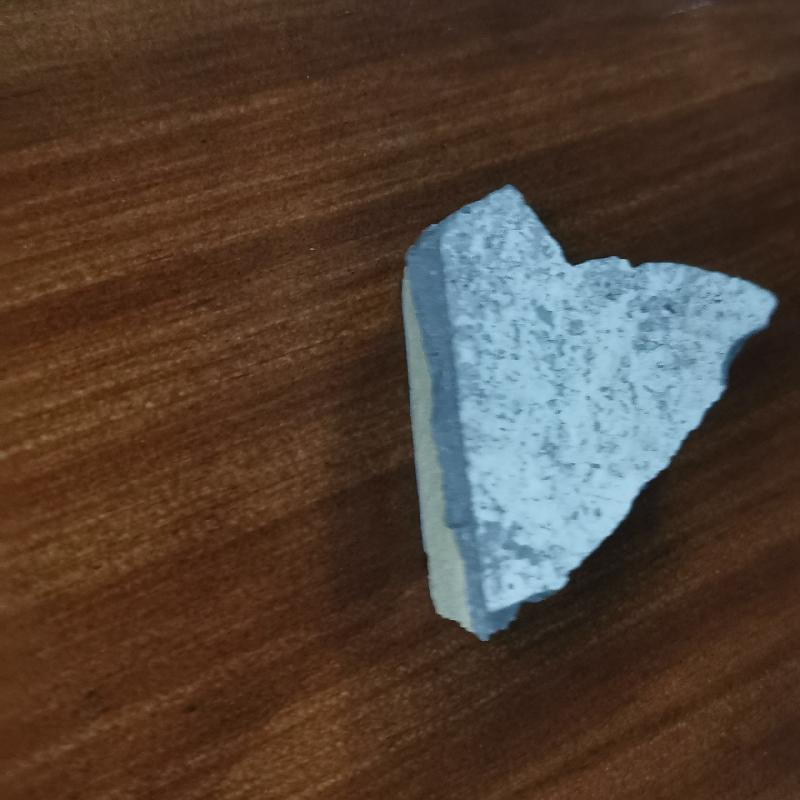tile: (398, 181, 783, 642)
